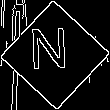N_S: (34, 29, 76, 81)
